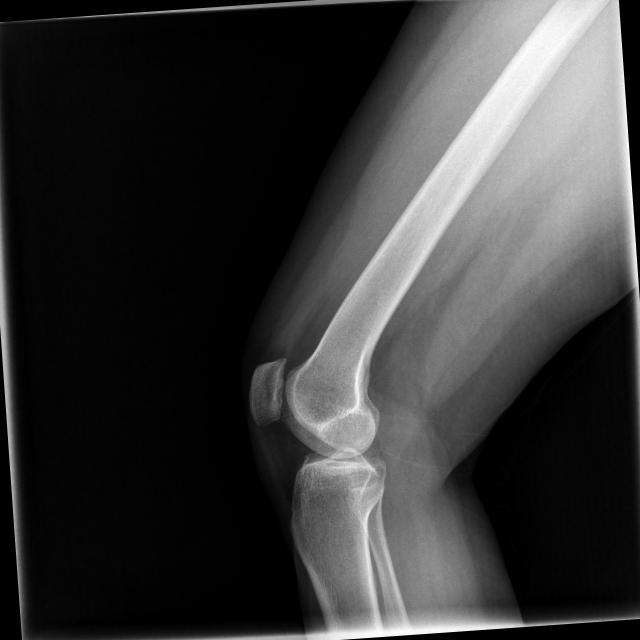Knee: (245, 344, 396, 512)
